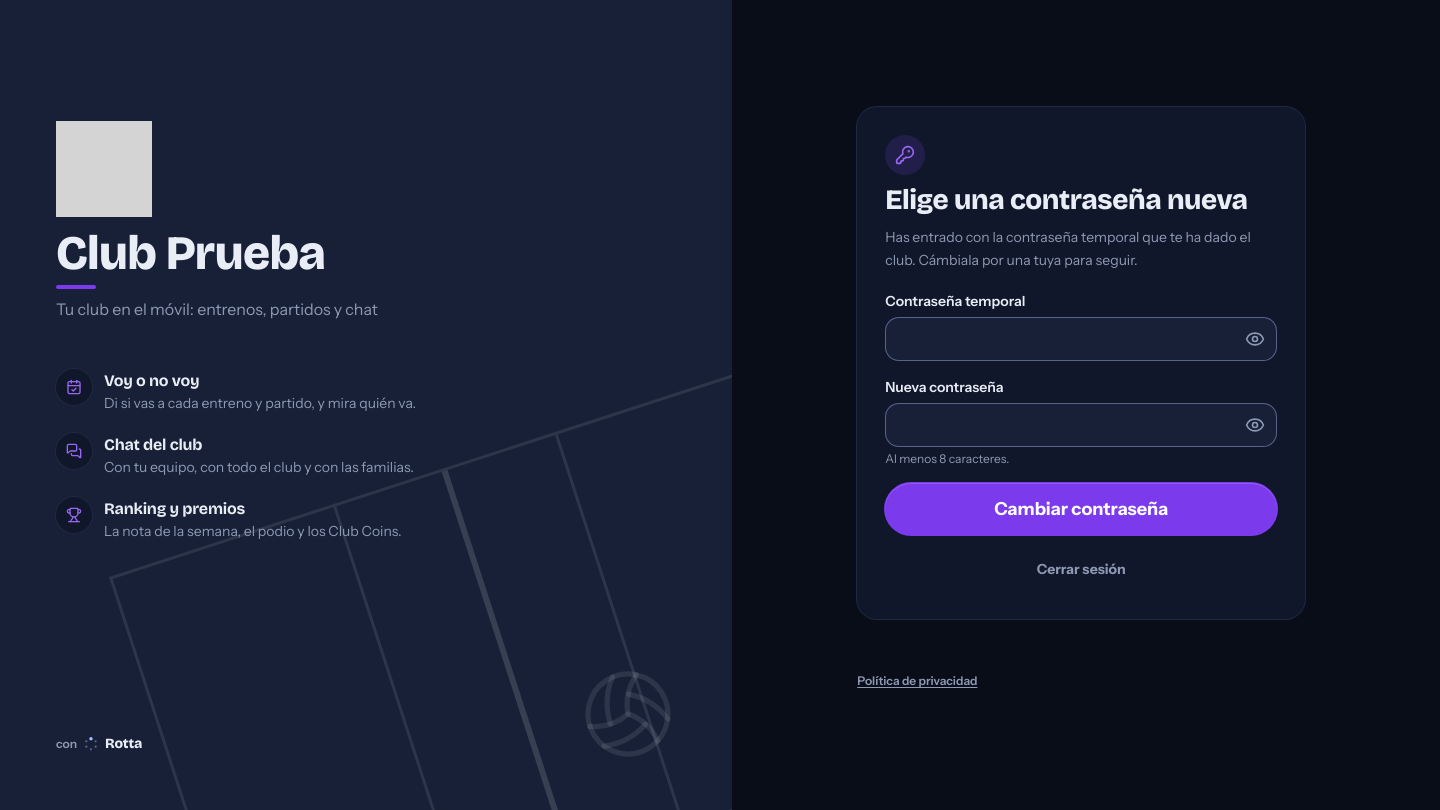
Test case: ChangePasswordPage (contraseña temporal) › si la temporal no es correcta, lo dice el servidor
The width and height of the screenshot is (1440, 810).
Type "mala" into the password field labelled "Contraseña temporal" at coordinates (1081, 339), box left=885, top=317, right=1277, bottom=361
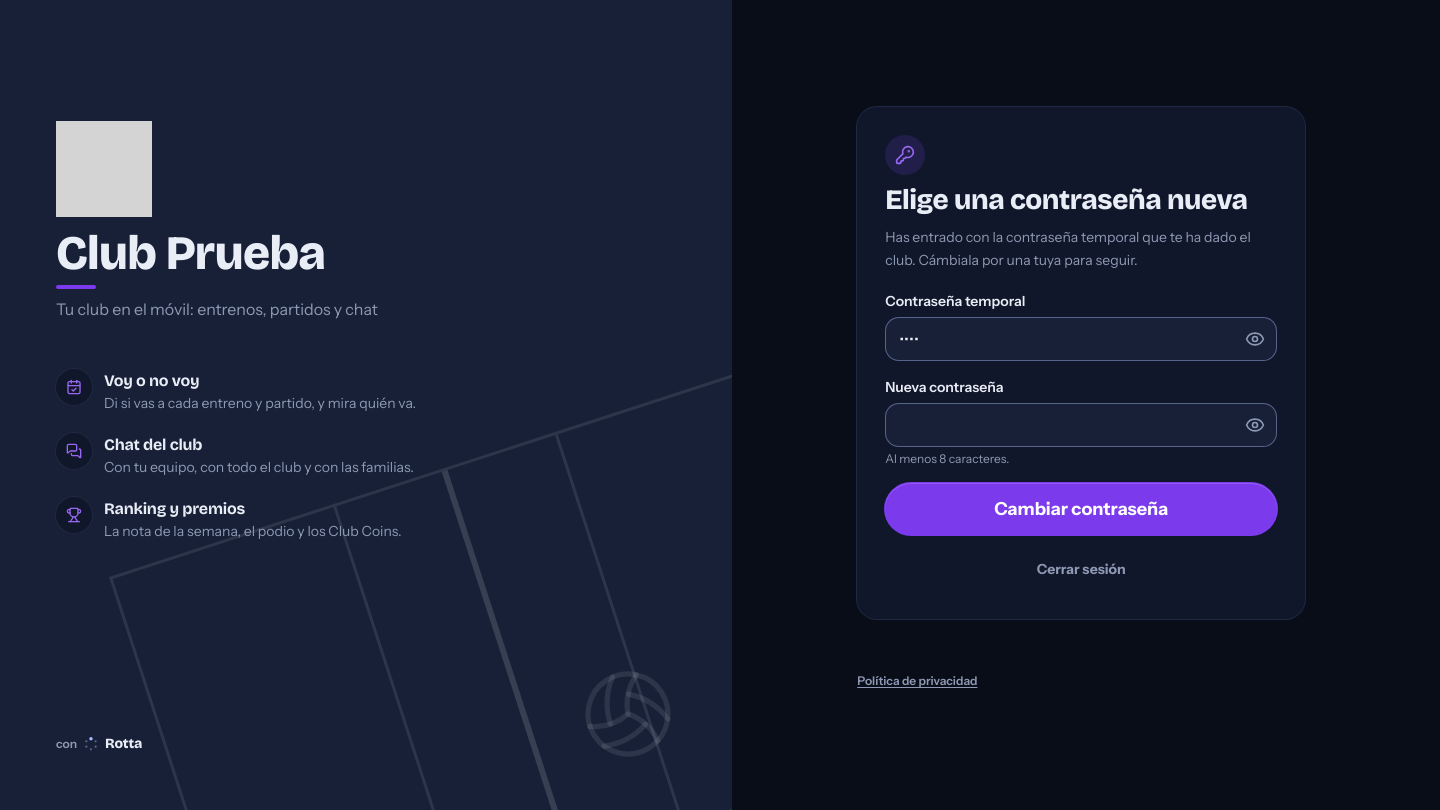
Type "nueva-segura-1" into the password field labelled "Nueva contraseña" at coordinates (1081, 425), box left=885, top=403, right=1277, bottom=447
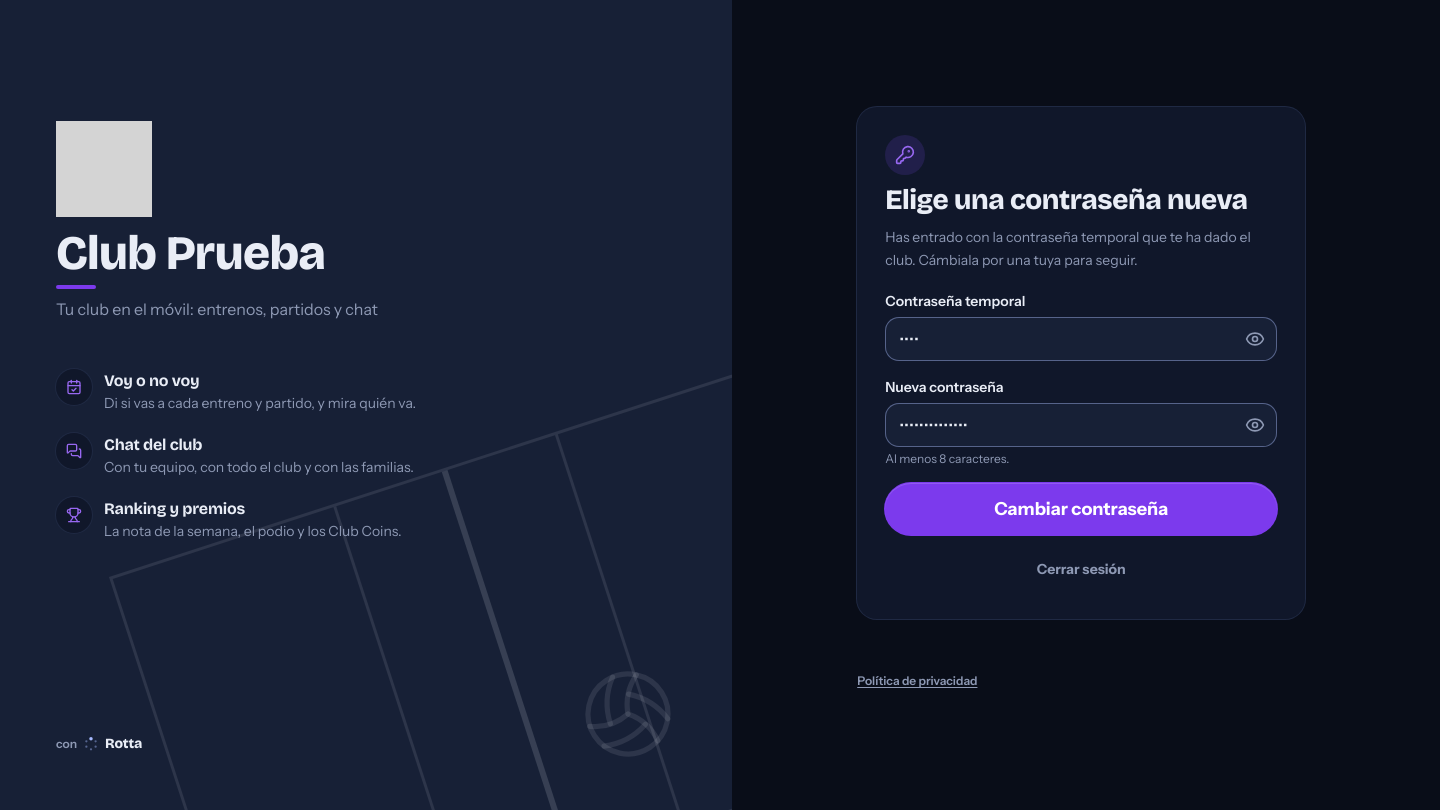
Click the button "Cambiar contraseña" at coordinates (1081, 509), box left=885, top=483, right=1277, bottom=535
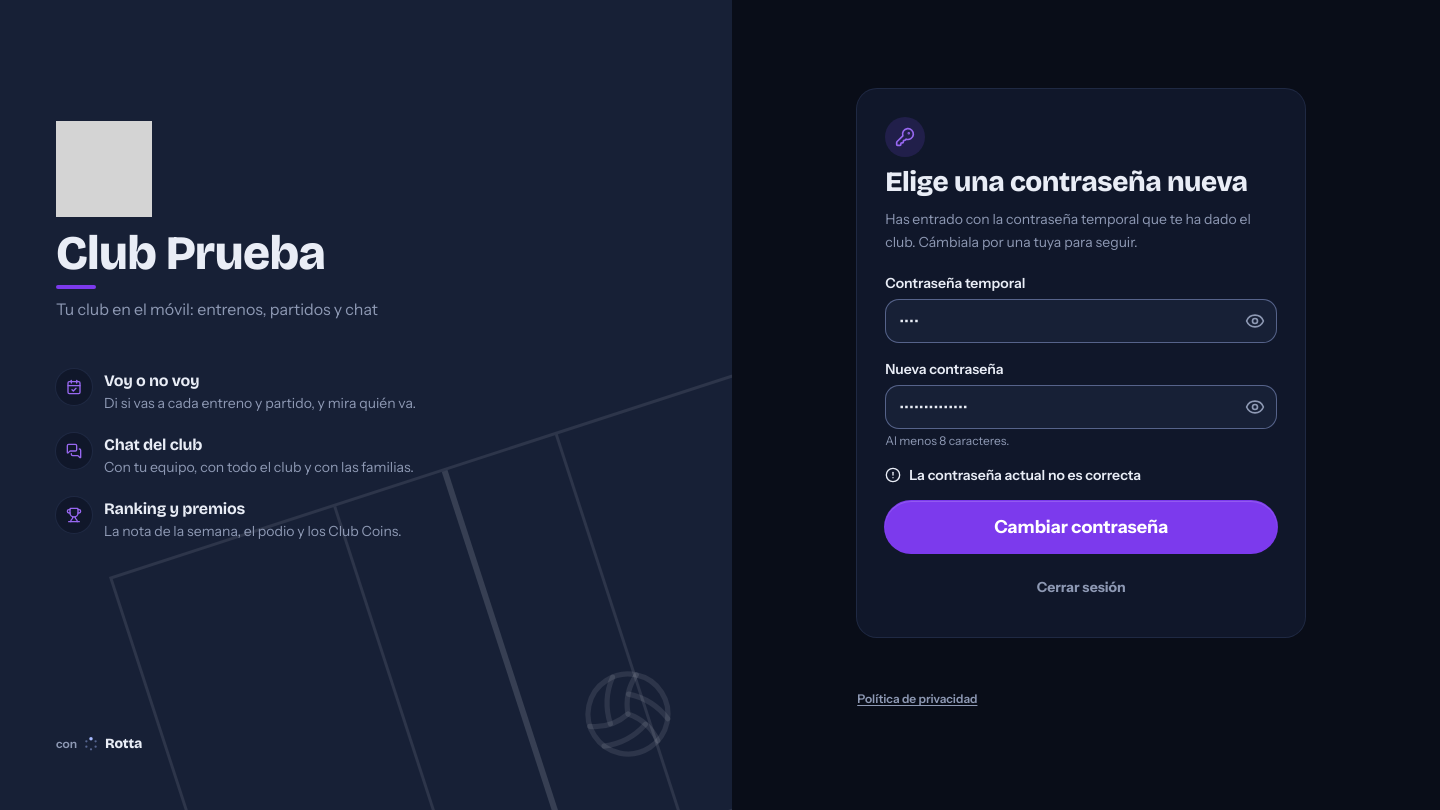
Expected: the message shows "no es correcta", left=909, top=466, right=1141, bottom=484
